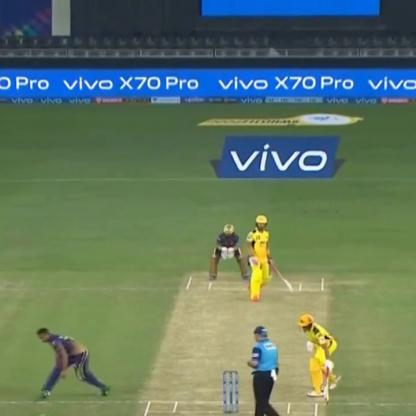pitch: (133, 264, 331, 416)
